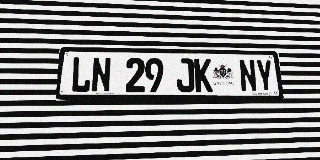2: (126, 58, 145, 92)
9: (145, 58, 164, 92)
J: (176, 58, 195, 92)
K: (194, 59, 213, 92)
L: (70, 57, 92, 93)
N: (91, 57, 111, 92), (238, 59, 258, 92)
Y: (255, 59, 275, 92)
